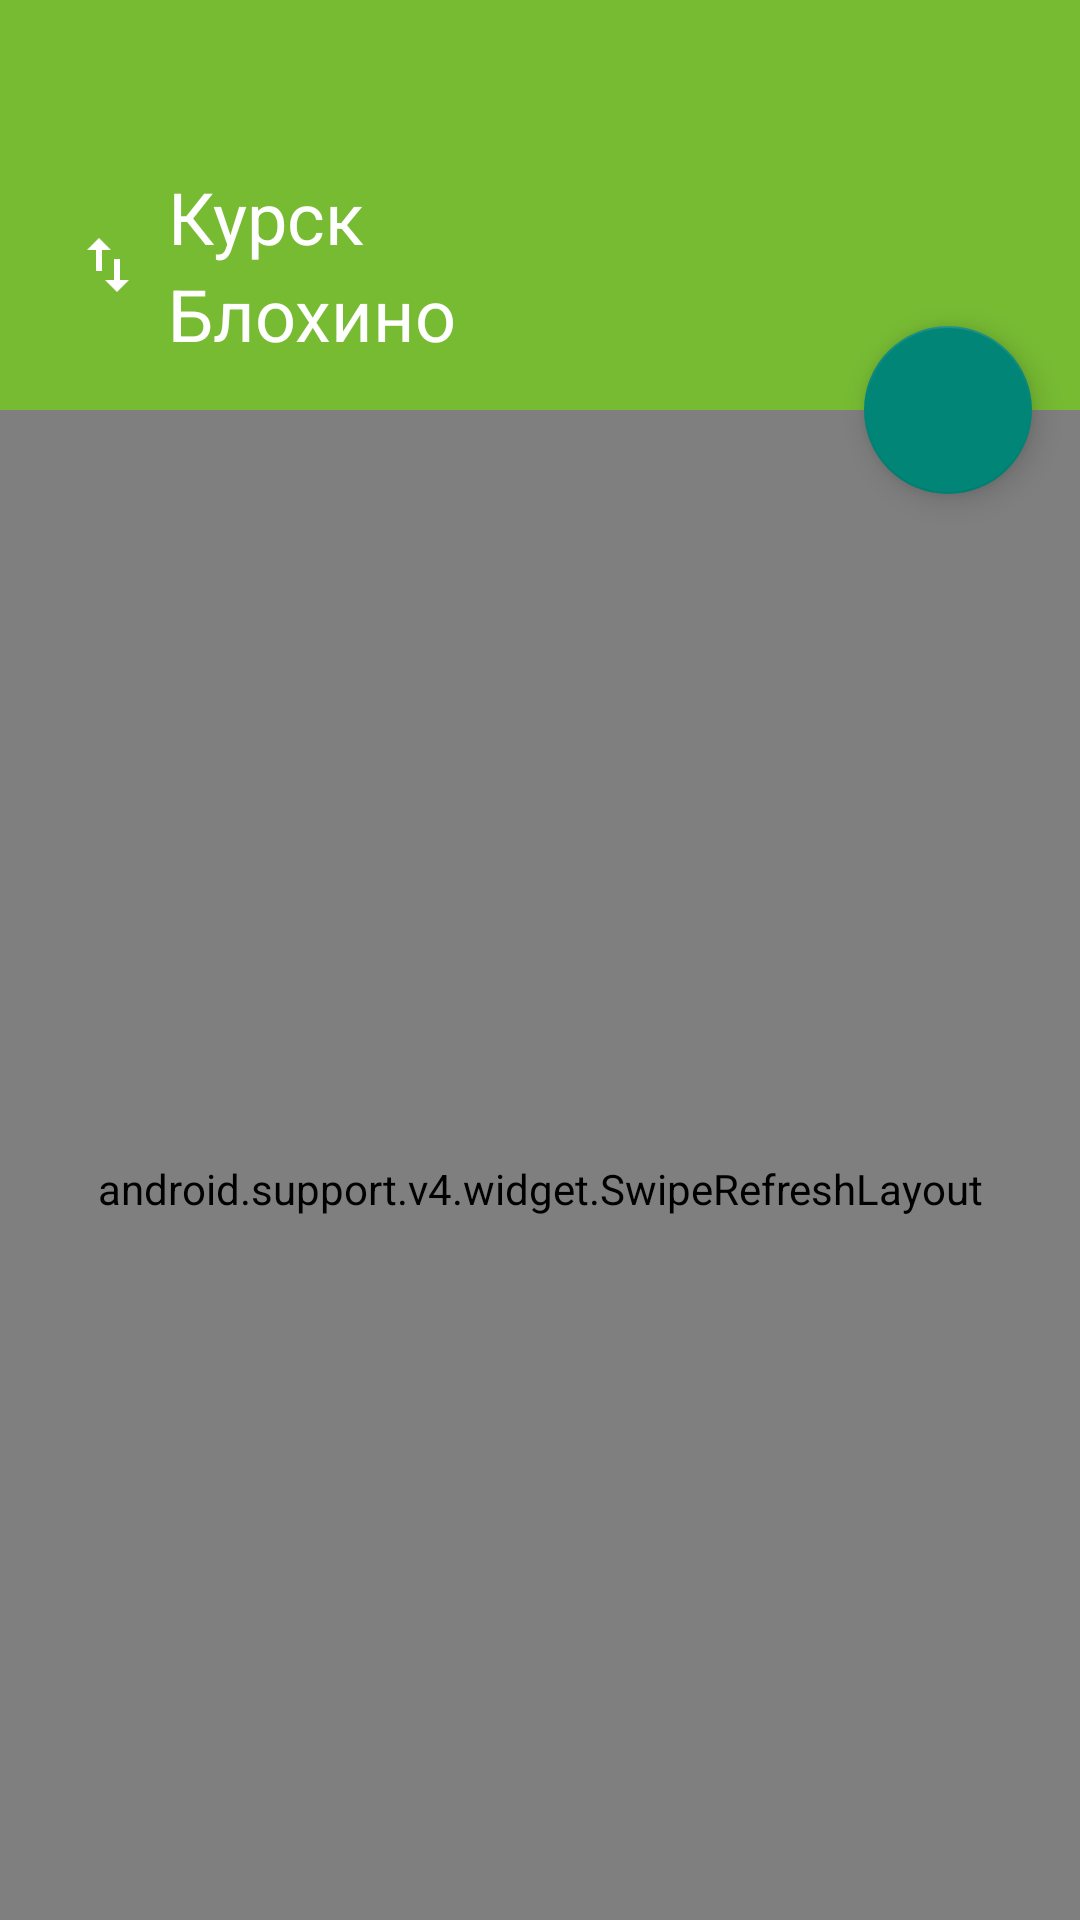

Named icons in this screenshot (1080px x 1920px) and their bounding boxes, (x1, y1, x2, y2):
import export: (87, 238, 129, 292)
